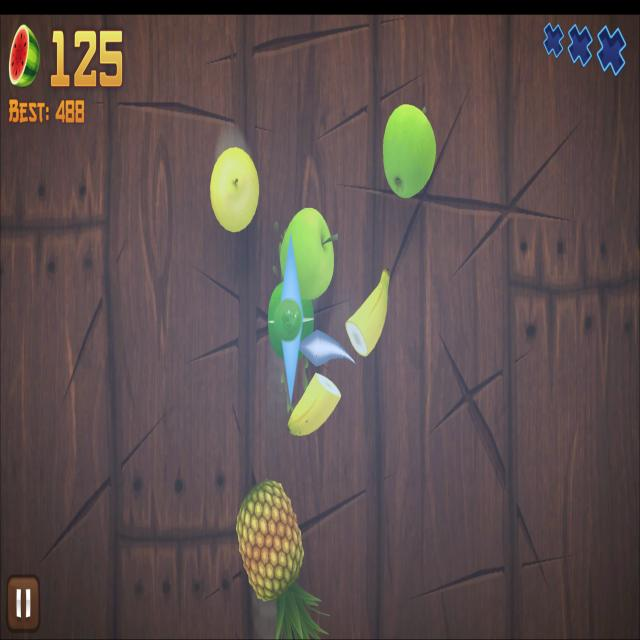fruit: (236, 478, 305, 604), (382, 104, 437, 199), (280, 208, 334, 300), (210, 146, 259, 233), (268, 283, 314, 360)
